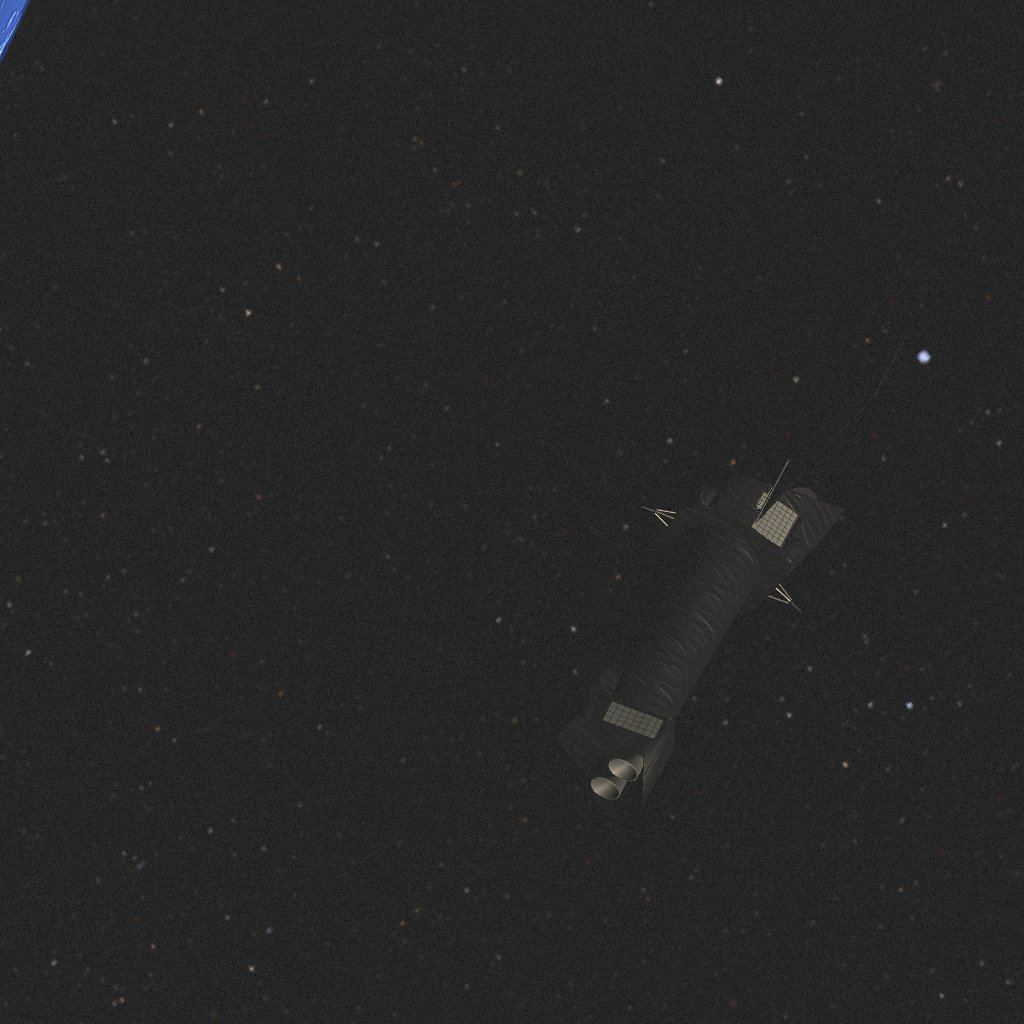xmm_newton: (555, 334, 907, 831)
